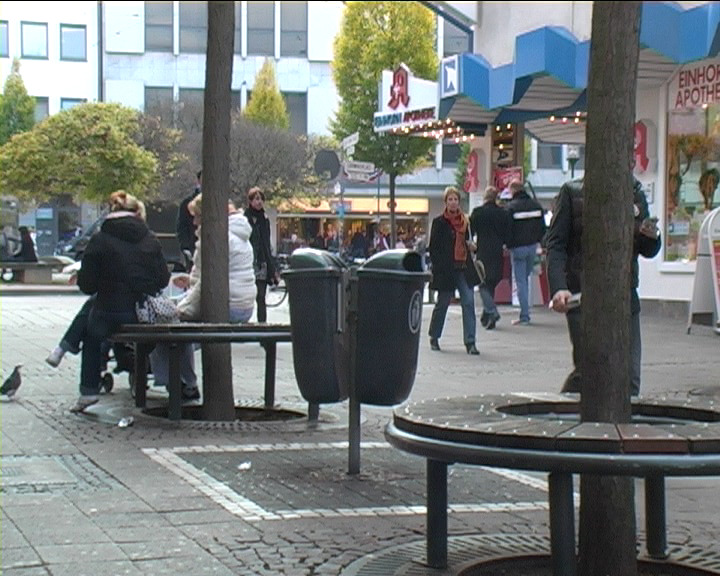undeflect: (429, 185, 480, 236)
